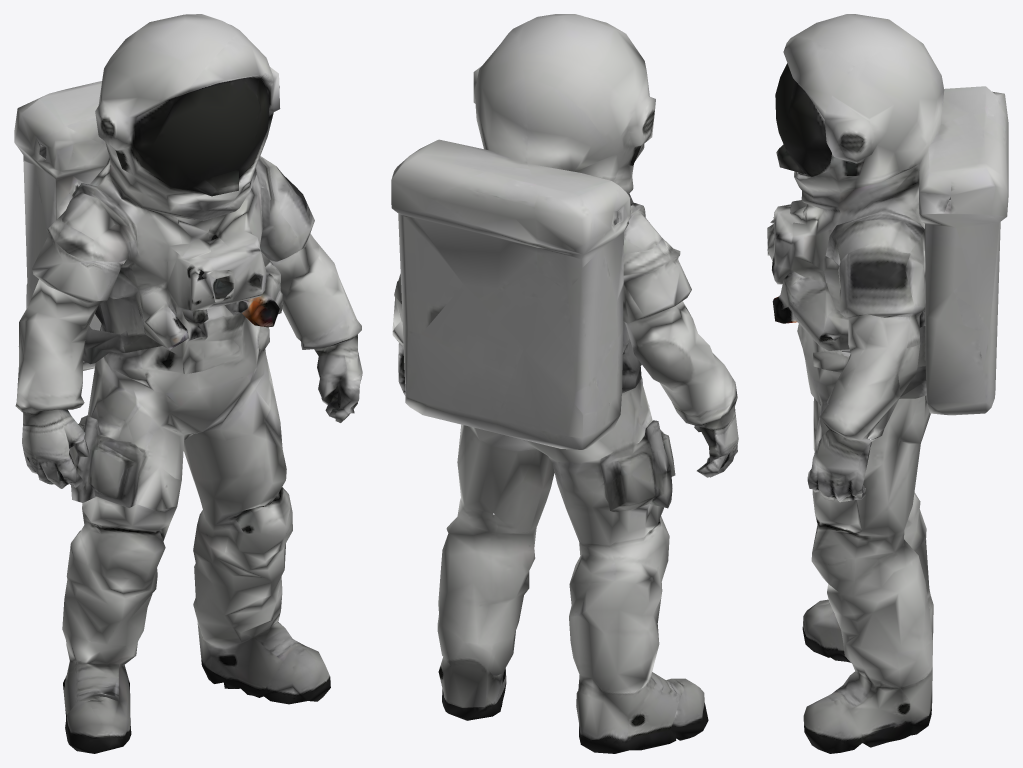
Rendered from person_astro.glb.
The picture shows the model from 3 angles, left to right: view 1: azimuth 30°, elevation 25°; view 2: azimuth 150°, elevation 25°; view 3: azimuth 270°, elevation 25°; orthographic projection. The views are drawn at different scales.
Visible parts, largest first — view 1: tripo_node_f19da029-cf0b-4b07-aafa-782eba906b63; view 2: tripo_node_f19da029-cf0b-4b07-aafa-782eba906b63; view 3: tripo_node_f19da029-cf0b-4b07-aafa-782eba906b63.
Part boxes in pixels (bbox=[...]): tripo_node_f19da029-cf0b-4b07-aafa-782eba906b63: bbox=[14, 14, 362, 753]; tripo_node_f19da029-cf0b-4b07-aafa-782eba906b63: bbox=[391, 14, 738, 753]; tripo_node_f19da029-cf0b-4b07-aafa-782eba906b63: bbox=[767, 14, 1008, 753].
Bounding box in the file's own units: 0.497 × 0.979 × 0.3185.
1 material, 1 textured.
